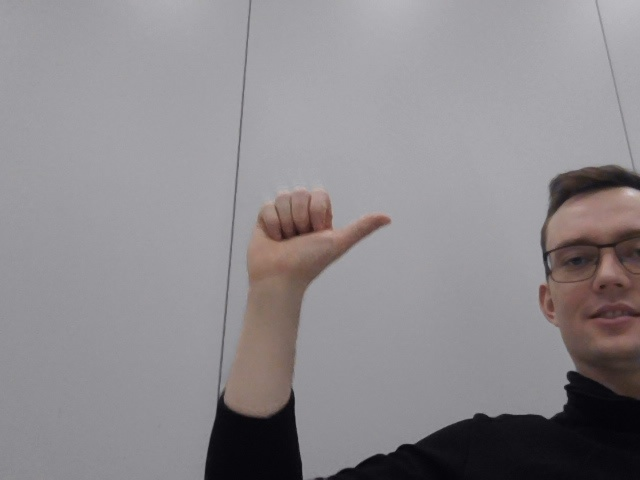left: (232, 172, 404, 297)
